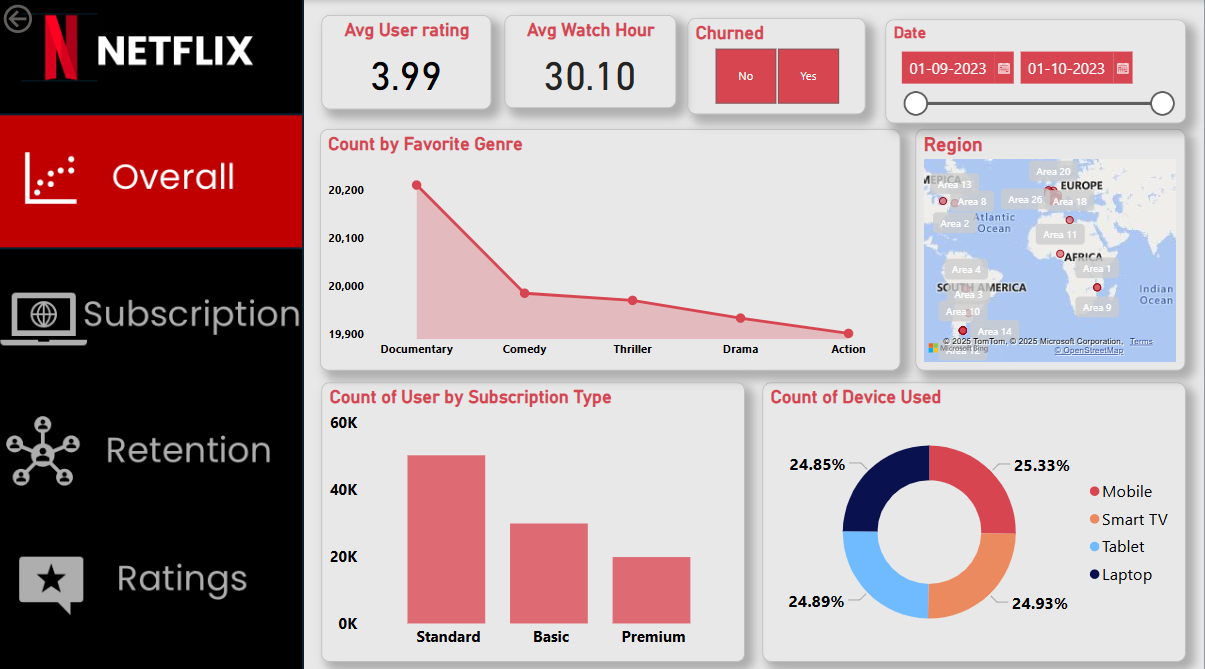

The page's visual inventory and layout, read from the dashboard file:
{"tool":"powerbi","page":{"name":"Page 1","canvas":[1280,720],"ordinal":0},"visuals":[{"type":"actionButton","box":[0,262.5,326.1,143.2],"z":0},{"type":"actionButton","box":[0,580.6,322.9,140],"z":1000},{"type":"donutChart","title":"Count of Device Used ","fields":{"Category":["Sheet1.Device_Used"],"Y":["CountNonNull(Sheet1.Device_Used)"]},"box":[809.6,405.6,448.6,295.9],"z":2000},{"type":"card","title":"Avg User rating","fields":{"Values":["Avg(Sheet1.User_Rating)"]},"box":[341.7,16.7,180,100],"z":3000},{"type":"card","title":"Avg Watch Hour","fields":{"Values":["Avg(Sheet1.Watch_Hours)"]},"box":[536.7,16.7,181.7,98.3],"z":4000},{"type":"lineChart","title":"Count by Favorite Genre","fields":{"Category":["Sheet1.Favorite_Genre"],"Y":["CountNonNull(Sheet1.User_ID)"]},"box":[340.4,136.8,615.6,256.1],"z":6000},{"type":"columnChart","title":"Count of User by Subscription Type","fields":{"Category":["Sheet1.Subscription_Type"],"Y":["CountNonNull(Sheet1.User_ID)"]},"box":[342,405.6,448.6,295.9],"z":7000},{"type":"map","fields":{"Category":["Sheet1.Region"]},"box":[971.9,136.8,286.3,256.1],"z":8000},{"type":"slicer","title":"Churned","fields":{"Values":["Sheet1.Churned"]},"box":[730,18.3,188.3,101.7],"z":9001},{"type":"actionButton","box":[0,0,100,40],"z":9002},{"type":"slicer","title":"Date","fields":{"Values":["Sheet1.Date"]},"box":[940,20,318.3,110],"z":9003}]}

Visuals, with their boxes in screenshot pixels (x1, y1, x2, y2), scaled from the page's 1280x720 canvas onto the 1205x669 screenshot:
actionButton: bbox=[0, 244, 307, 377]
actionButton: bbox=[0, 539, 304, 668]
"Count of Device Used " donutChart: bbox=[762, 377, 1184, 652]
"Avg User rating" card: bbox=[322, 16, 491, 108]
"Avg Watch Hour" card: bbox=[505, 16, 676, 107]
"Count by Favorite Genre" lineChart: bbox=[320, 127, 900, 365]
"Count of User by Subscription Type" columnChart: bbox=[322, 377, 744, 652]
map - Sheet1.Region: bbox=[915, 127, 1184, 365]
"Churned" slicer: bbox=[687, 17, 864, 112]
actionButton: bbox=[0, 0, 94, 37]
"Date" slicer: bbox=[885, 19, 1185, 121]
